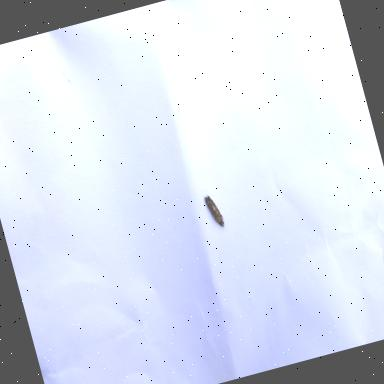pbw: (204, 192, 226, 230)
